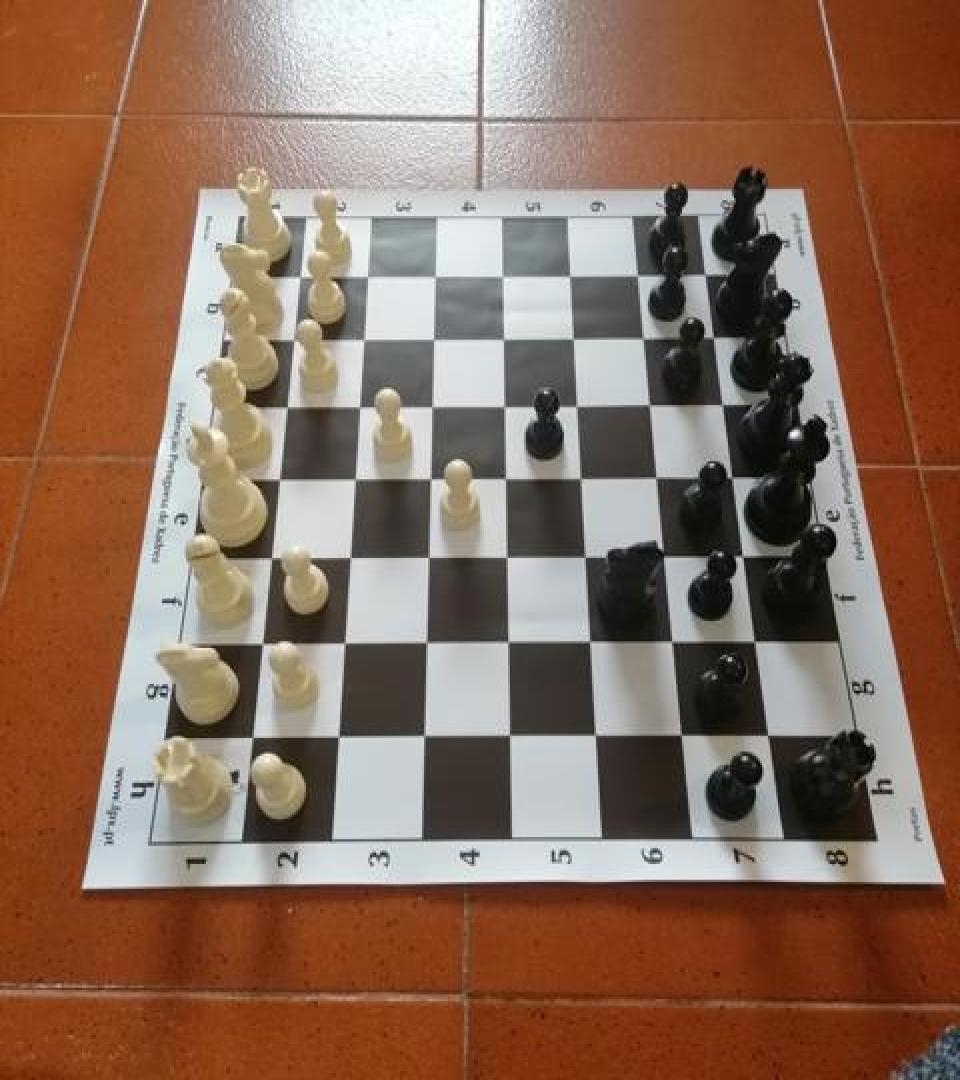xcorner: (630, 258, 660, 292), (560, 258, 590, 292), (491, 258, 521, 292), (422, 258, 452, 292), (352, 258, 382, 292), (282, 258, 312, 292), (707, 322, 737, 356), (636, 322, 666, 356), (564, 322, 594, 356), (492, 322, 522, 356), (421, 322, 451, 356), (349, 323, 379, 357), (276, 323, 306, 357), (716, 390, 746, 424), (642, 390, 672, 424), (568, 390, 598, 424), (494, 390, 524, 424), (419, 390, 449, 424), (345, 392, 375, 426), (270, 392, 300, 426), (726, 464, 756, 498), (649, 464, 679, 498), (572, 464, 602, 498), (737, 542, 767, 576), (657, 543, 687, 577), (577, 543, 607, 577), (497, 543, 527, 577), (416, 544, 446, 578), (336, 544, 366, 578), (255, 544, 285, 578), (665, 629, 695, 663), (582, 629, 612, 663), (498, 630, 528, 664), (415, 630, 445, 664), (331, 631, 361, 665), (247, 631, 277, 665), (761, 721, 791, 755), (674, 722, 704, 756), (587, 722, 617, 756), (500, 723, 530, 757), (413, 723, 443, 757), (238, 726, 268, 760), (699, 258, 729, 291), (495, 465, 525, 498), (418, 465, 448, 498), (340, 465, 370, 498), (263, 466, 293, 499), (748, 628, 778, 661), (326, 725, 356, 758)
